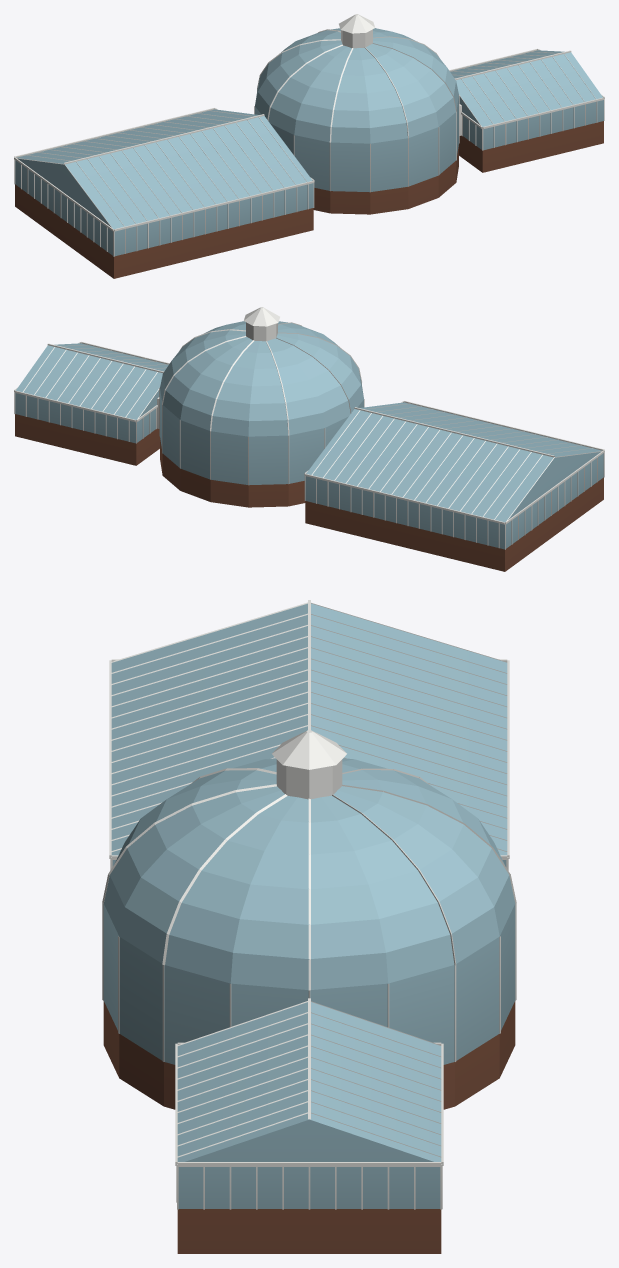
Rendered from conservatory.glb.
3 renders of one model, top to bottom at view 1: azimuth 30°, elevation 25°; view 2: azimuth 150°, elevation 25°; view 3: azimuth 270°, elevation 25°, orthographic. The views are drawn at different scales.
Parts seen in each view (by area): view 1: conservatory_lod0; view 2: conservatory_lod0; view 3: conservatory_lod0.
Boxes of the visible parts, x1=… form: conservatory_lod0: x1=14, y1=14, x2=604, y2=278; conservatory_lod0: x1=14, y1=307, x2=604, y2=571; conservatory_lod0: x1=102, y1=600, x2=516, y2=1253.
Size of what is drawn, in the model's own units: 71.3 by 21 by 25.17.
